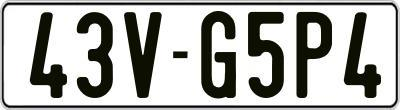3: (75, 11, 112, 103)
4: (343, 12, 384, 102), (30, 12, 69, 100)
5: (248, 12, 288, 100)
G: (198, 10, 236, 103)
P: (295, 9, 333, 98)
V: (122, 10, 166, 102)
